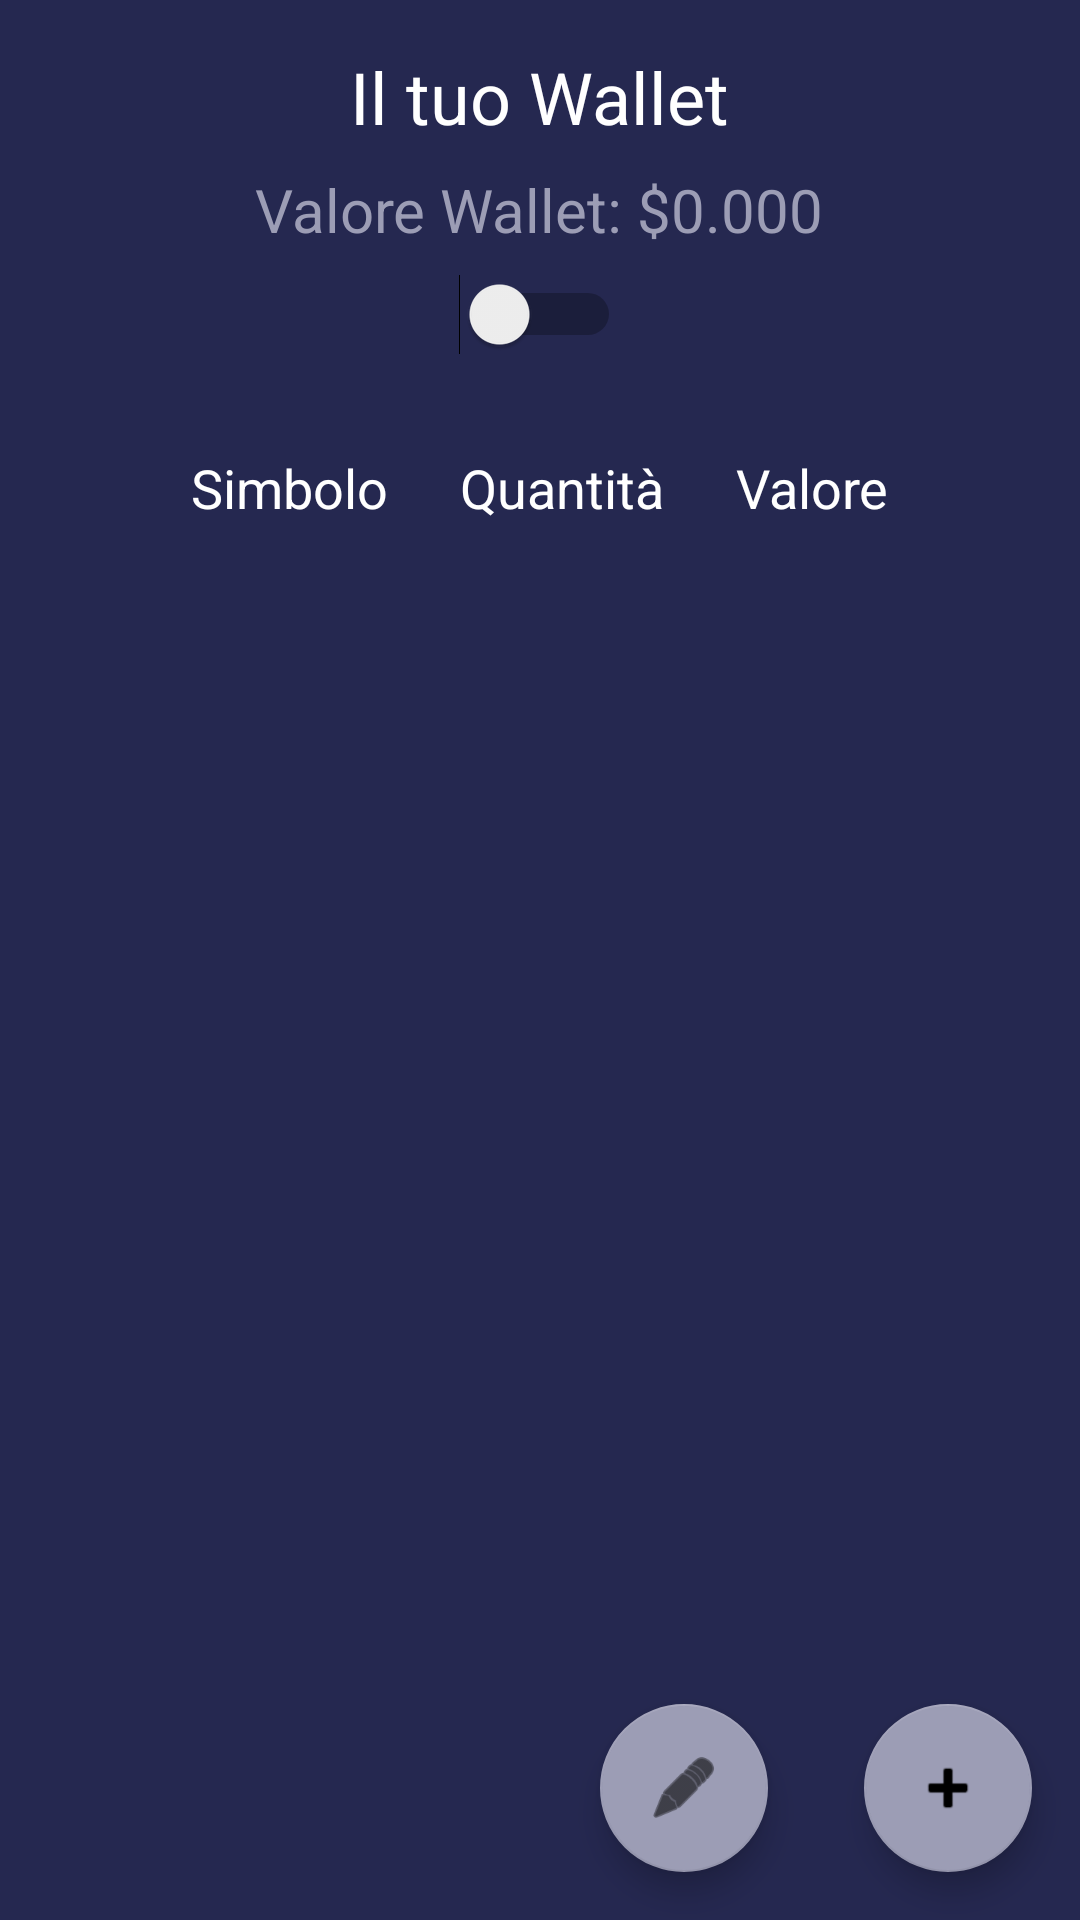

Where icons sit on this 1080 x 1920 app screen, as {"x1": x1, "y1": y1, "x2": x2, "y2": y2}:
add: {"x1": 864, "y1": 1704, "x2": 1032, "y2": 1872}
edit: {"x1": 600, "y1": 1704, "x2": 768, "y2": 1872}
